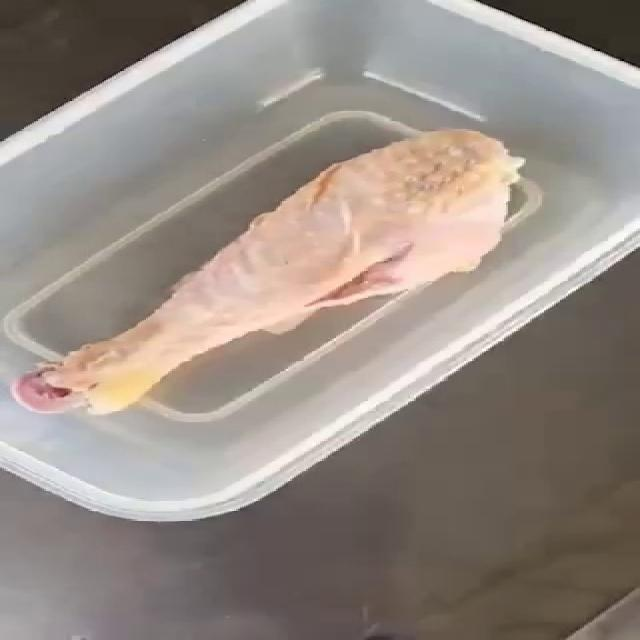chicken: (11, 126, 527, 417)
